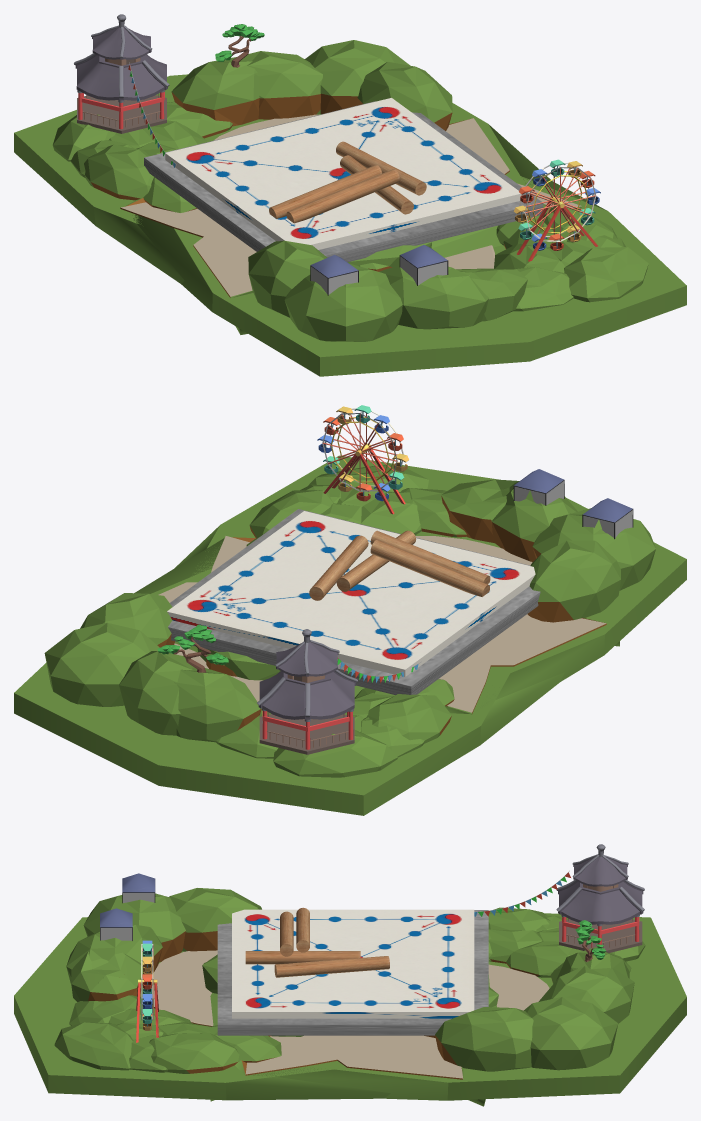
The model's file is yutnori.glb.
The picture shows the model from 3 angles, top to bottom: view 1: azimuth 30°, elevation 25°; view 2: azimuth 150°, elevation 25°; view 3: azimuth 270°, elevation 25°; orthographic projection. The views are drawn at different scales.
Parts seen in each view (by area): view 1: GeoSphere022.002, GeoSphere022.001, Cube.010, SM_Pagoda:SM_Pagoda.001, Cube.009, ferris_wheel.001, Cylinder.007, Cylinder.005, Canopy_4_1.005, Canopy_4_1.004, Cylinder.004, group430673059.001 (+1 smaller); view 2: GeoSphere022.001, GeoSphere022.002, Cube.010, SM_Pagoda:SM_Pagoda.001, Cube.009, ferris_wheel.001, Cylinder.005, Canopy_4_1.004, Canopy_4_1.005, group430673059.001, Cylinder.004, Cylinder.007 (+1 smaller); view 3: GeoSphere022.002, GeoSphere022.001, Cube.010, Cube.009, SM_Pagoda:SM_Pagoda.001, Cylinder.004, ferris_wheel.001, Cylinder.006, Canopy_4_1.005, Canopy_4_1.004, group430673059.001, Cylinder.007 (+2 smaller).
Part boxes in pixels (x1,y1,x2,y2): GeoSphere022.002: (120, 118, 686, 376); GeoSphere022.001: (14, 40, 581, 334); Cube.010: (165, 98, 521, 249); SM_Pagoda:SM_Pagoda.001: (74, 14, 169, 133); Cube.009: (144, 101, 543, 262); ferris_wheel.001: (514, 159, 600, 261); Cylinder.007: (286, 169, 400, 223); Cylinder.005: (269, 164, 382, 218); Canopy_4_1.005: (399, 245, 448, 285); Canopy_4_1.004: (310, 255, 358, 295); Cylinder.004: (336, 141, 426, 195); group430673059.001: (215, 24, 264, 67); GeoSphere022.001: (14, 536, 619, 815); GeoSphere022.002: (158, 455, 686, 714); Cube.010: (167, 511, 535, 676); SM_Pagoda:SM_Pagoda.001: (257, 629, 357, 754); Cube.009: (168, 509, 540, 694); ferris_wheel.001: (317, 405, 408, 514); Cylinder.005: (370, 540, 489, 596); Canopy_4_1.004: (582, 498, 633, 539); Canopy_4_1.005: (513, 469, 564, 505); group430673059.001: (157, 624, 228, 672); Cylinder.004: (309, 535, 368, 600); Cylinder.007: (370, 530, 490, 584); GeoSphere022.002: (14, 888, 490, 1106); GeoSphere022.001: (210, 907, 686, 1101); Cube.010: (232, 909, 474, 1018); Cube.009: (217, 910, 488, 1035); SM_Pagoda:SM_Pagoda.001: (556, 844, 644, 952); Cylinder.004: (274, 956, 389, 977); ferris_wheel.001: (136, 940, 158, 1042); Cylinder.006: (245, 951, 360, 964); Canopy_4_1.005: (100, 908, 132, 940); Canopy_4_1.004: (122, 873, 155, 903); group430673059.001: (575, 920, 605, 961); Cylinder.007: (280, 911, 293, 956).
Size of the model in its own units: 20.24 by 7.41 by 33.37.
44 materials, 17 textured.
